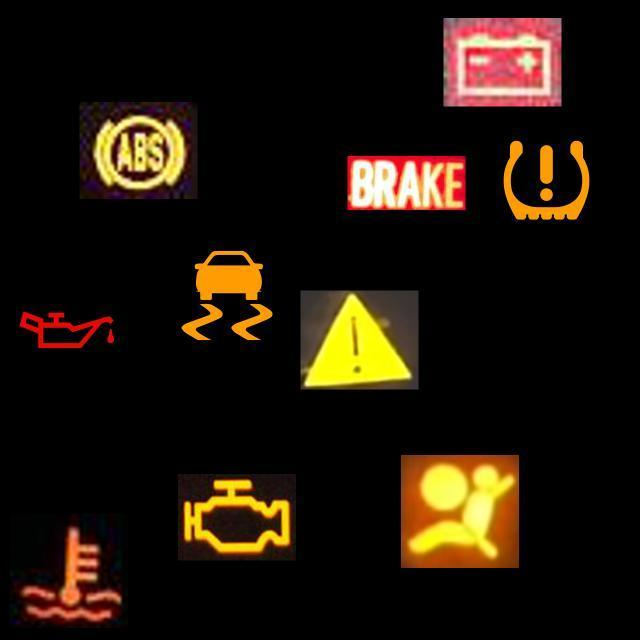Central Warning lamp: (301, 290, 418, 390)
Engine cooling system: (10, 514, 128, 628)
